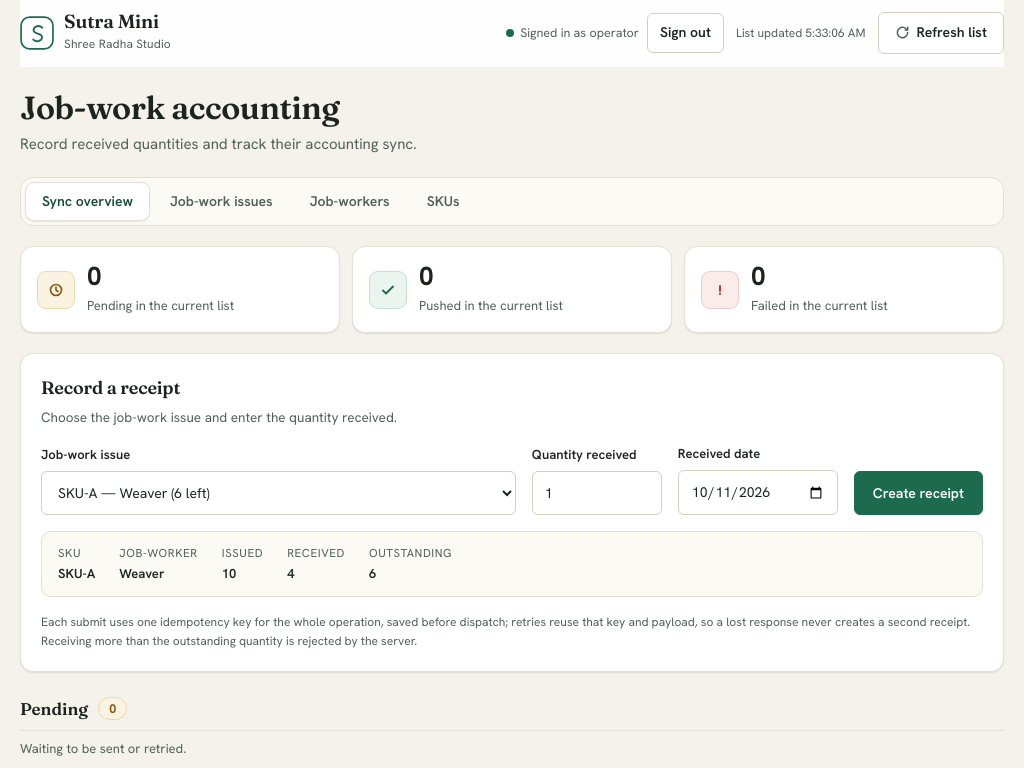
SyncPage issue progress (derived) › derives a received-progress bar from issued/received and handles zero issued defensively
Expected: the button "Create receipt" is enabled, [854,471,983,515]
Step 1. Click the button "Job-work issues" → point(221, 201), box [153,182,290,221]
(page scrolled)
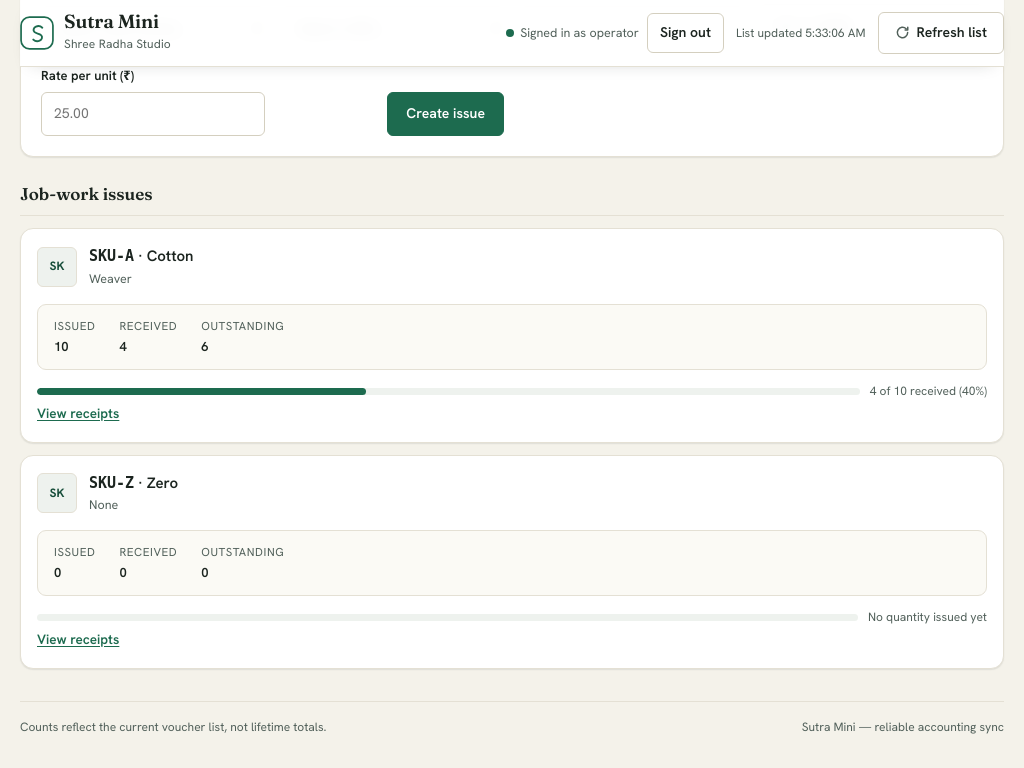
Expected: the text "4 of 10 received (40%)" is shown, [870,382,987,401]
Expected: the text "No quantity issued yet" is shown, [868,608,987,627]
